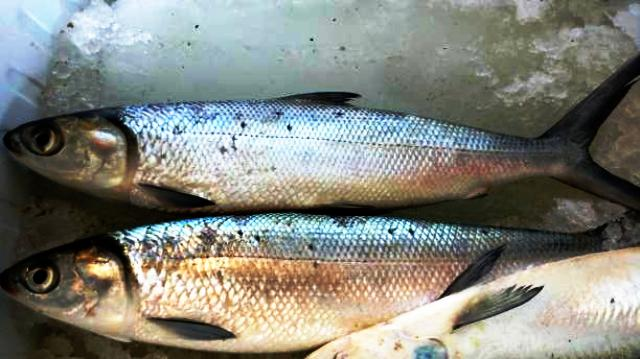Healthy Fish: (3, 55, 639, 212), (0, 213, 639, 352)
